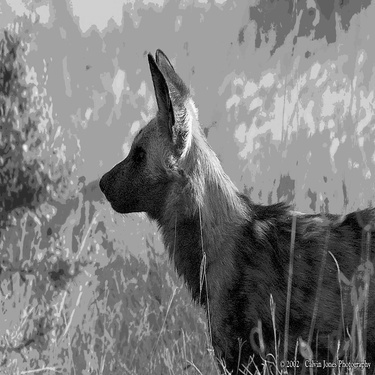dog: (91, 32, 372, 373)
